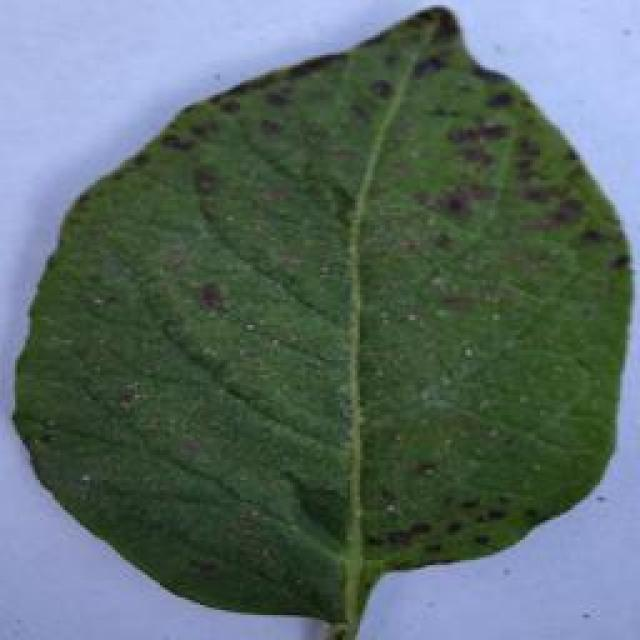Potato_Early_Blight: (3, 4, 632, 631)
